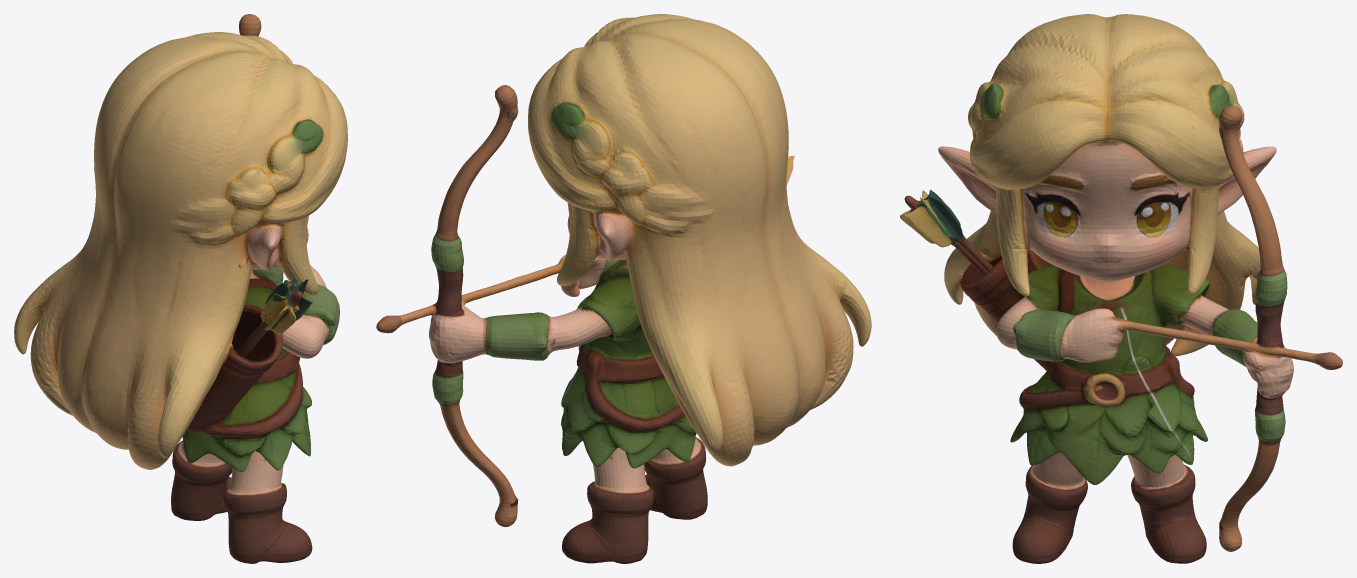
Rendered from female-03.glb.
3 renders of one model, left to right at view 1: azimuth 30°, elevation 25°; view 2: azimuth 150°, elevation 25°; view 3: azimuth 270°, elevation 25°, orthographic. The views are drawn at different scales.
Visible parts, largest first — view 1: tripo_node_efde4635-9b45-41cc-ab09-34833314fcd1; view 2: tripo_node_efde4635-9b45-41cc-ab09-34833314fcd1; view 3: tripo_node_efde4635-9b45-41cc-ab09-34833314fcd1.
Part boxes in pixels (left/top/right/bottom): tripo_node_efde4635-9b45-41cc-ab09-34833314fcd1: left=14, top=14, right=347, bottom=563; tripo_node_efde4635-9b45-41cc-ab09-34833314fcd1: left=376, top=14, right=871, bottom=563; tripo_node_efde4635-9b45-41cc-ab09-34833314fcd1: left=900, top=14, right=1342, bottom=563.
Bounding box in the file's own units: 0.6565 × 0.9994 × 0.7887.
1 material, 1 textured.
